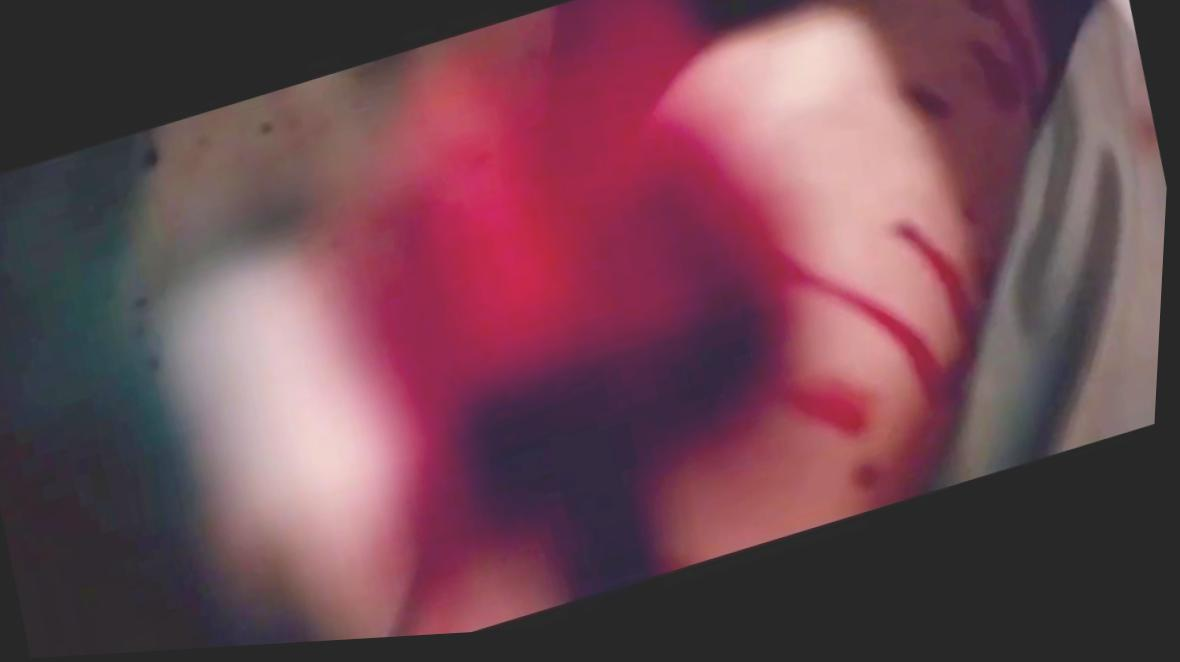Fire: (338, 2, 985, 642)
